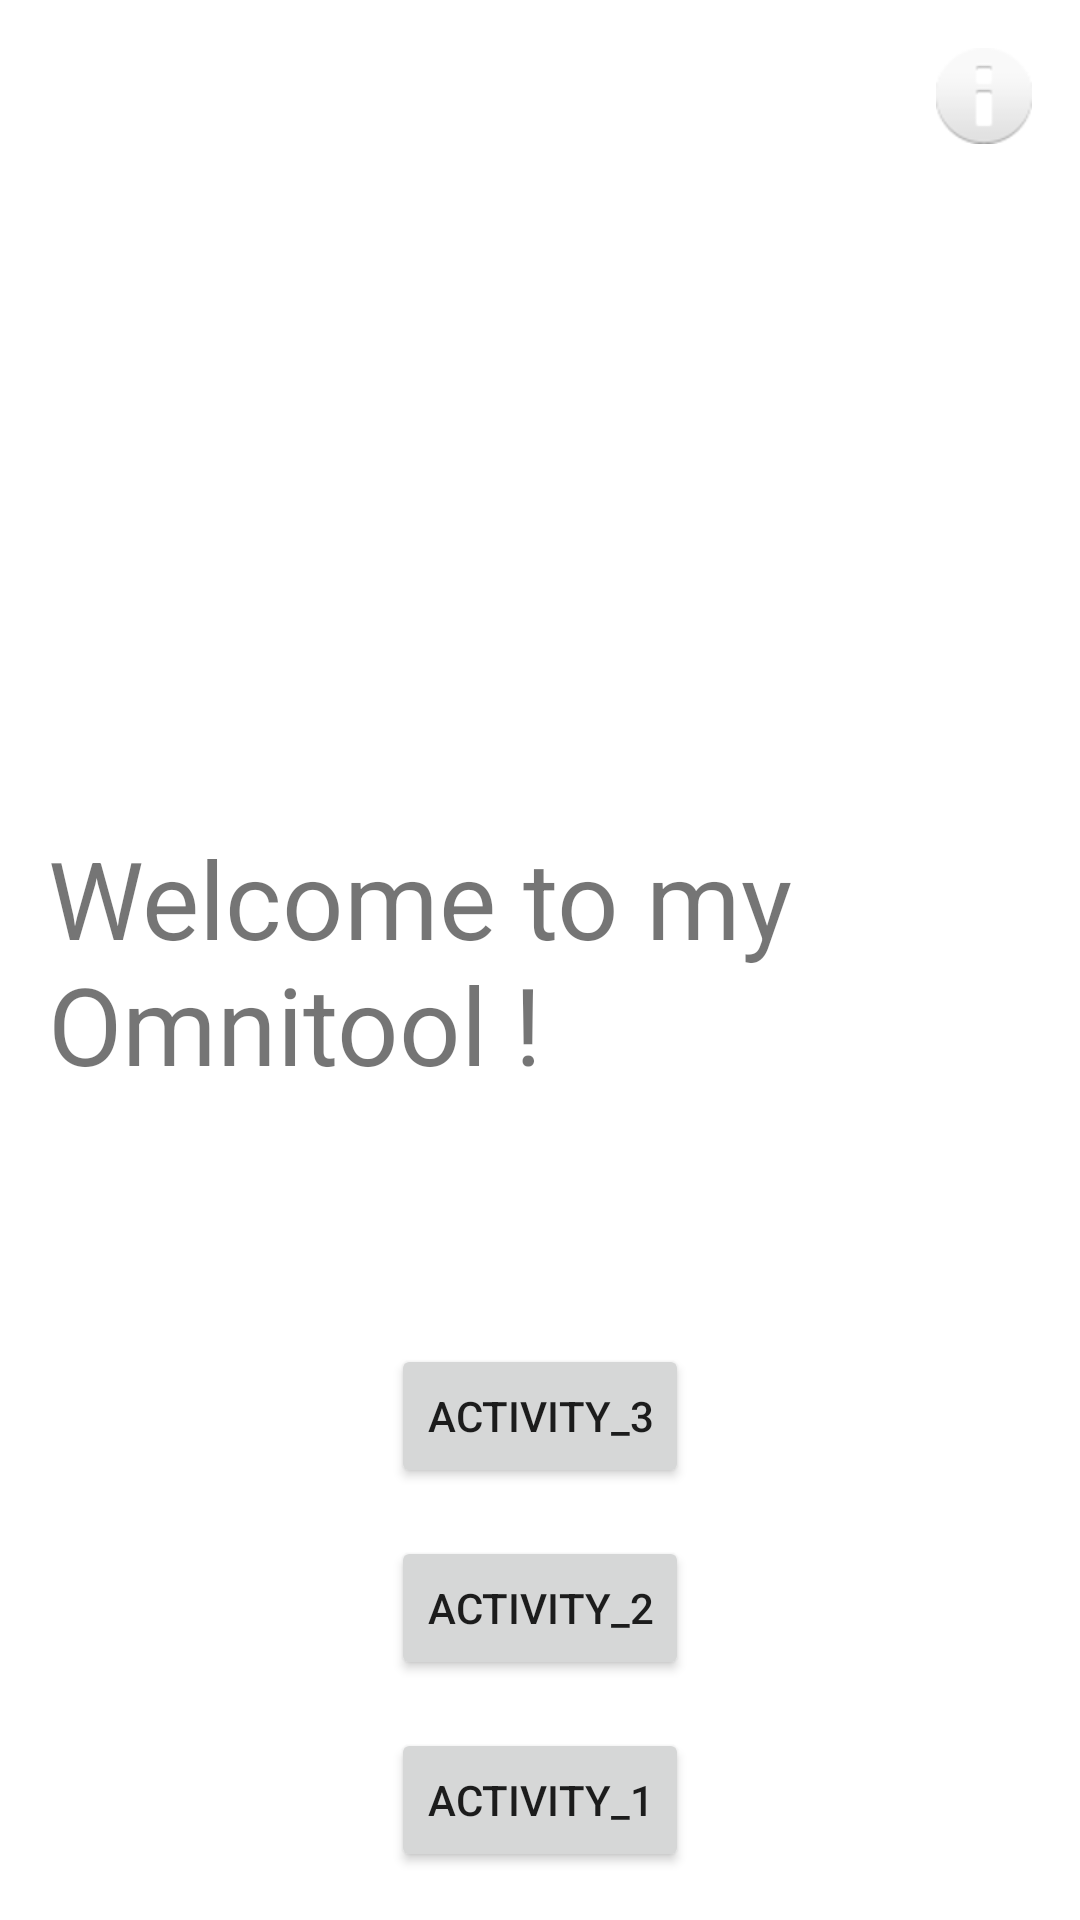

Icon bounding boxes for this 1080x1920 phone screenshot, format (x1, y1, x2, y2):
Creator information: (936, 66, 1032, 144)
